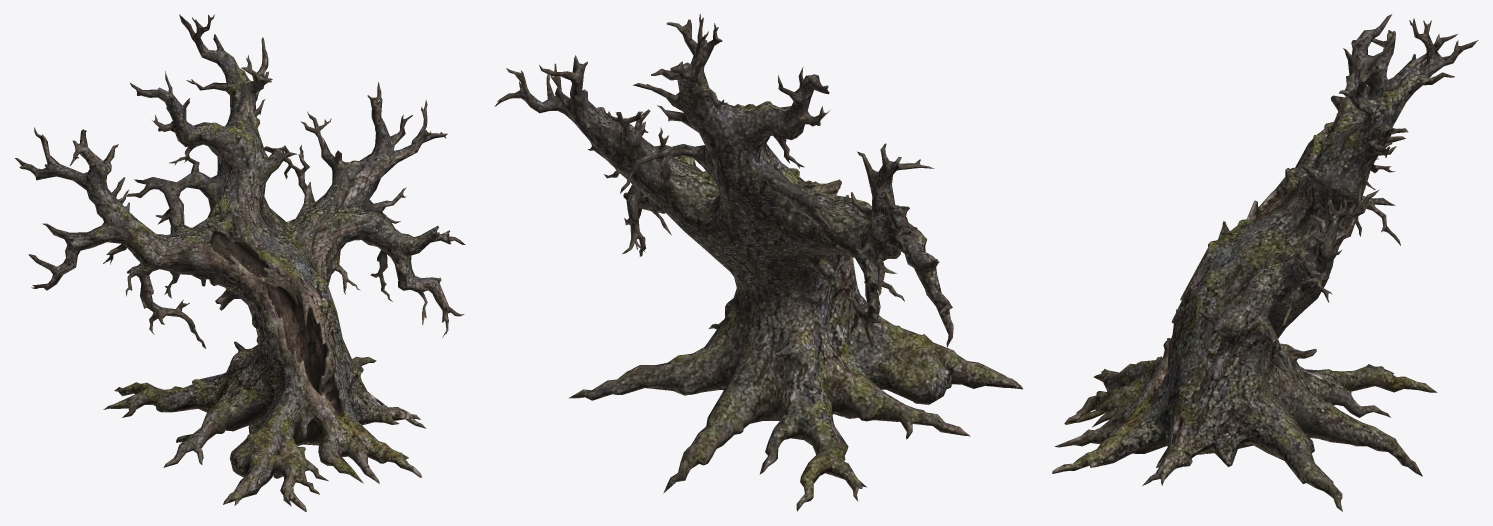
File: tree_dead_gnarled.glb
3 renders of one model, left to right at view 1: azimuth 30°, elevation 25°; view 2: azimuth 150°, elevation 25°; view 3: azimuth 270°, elevation 25°, orthographic. The views are drawn at different scales.
Parts seen in each view (by area): view 1: tripo_node_c83bca84-af71-443e-b46b-30021b213664; view 2: tripo_node_c83bca84-af71-443e-b46b-30021b213664; view 3: tripo_node_c83bca84-af71-443e-b46b-30021b213664.
Boxes of the visible parts, bbox=[...] form: tripo_node_c83bca84-af71-443e-b46b-30021b213664: bbox=[15, 14, 465, 511]; tripo_node_c83bca84-af71-443e-b46b-30021b213664: bbox=[494, 14, 1022, 511]; tripo_node_c83bca84-af71-443e-b46b-30021b213664: bbox=[1052, 14, 1478, 511].
Size of the model in its own units: 0.9995 by 0.939 by 0.8188.
1 material, 1 textured.
